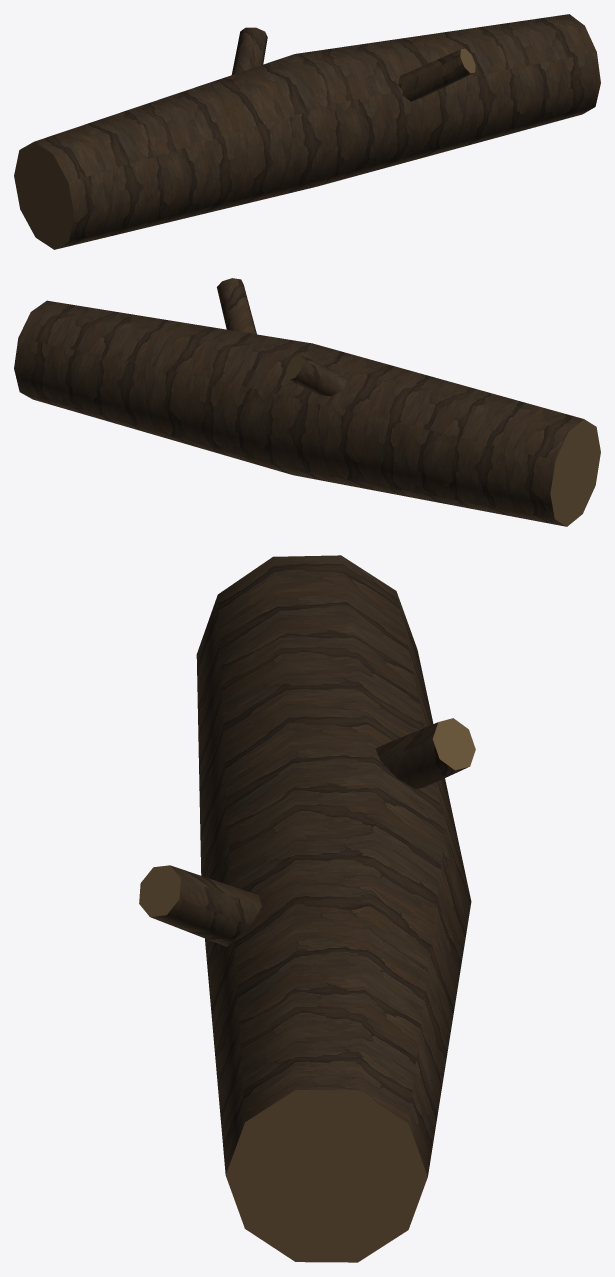
The picture shows the model from 3 angles, top to bottom: view 1: azimuth 30°, elevation 25°; view 2: azimuth 150°, elevation 25°; view 3: azimuth 270°, elevation 25°; orthographic projection. The views are drawn at different scales.
Visible parts, largest first — view 1: Fallen crooked trunk; view 2: Fallen crooked trunk; view 3: Fallen crooked trunk.
Boxes of the visible parts, bbox=[...] form: Fallen crooked trunk: bbox=[14, 14, 600, 249]; Fallen crooked trunk: bbox=[14, 278, 600, 526]; Fallen crooked trunk: bbox=[139, 555, 475, 1262].
Size of the model in its own units: 5.03 by 1.23 by 1.37.
2 materials, 1 textured.
